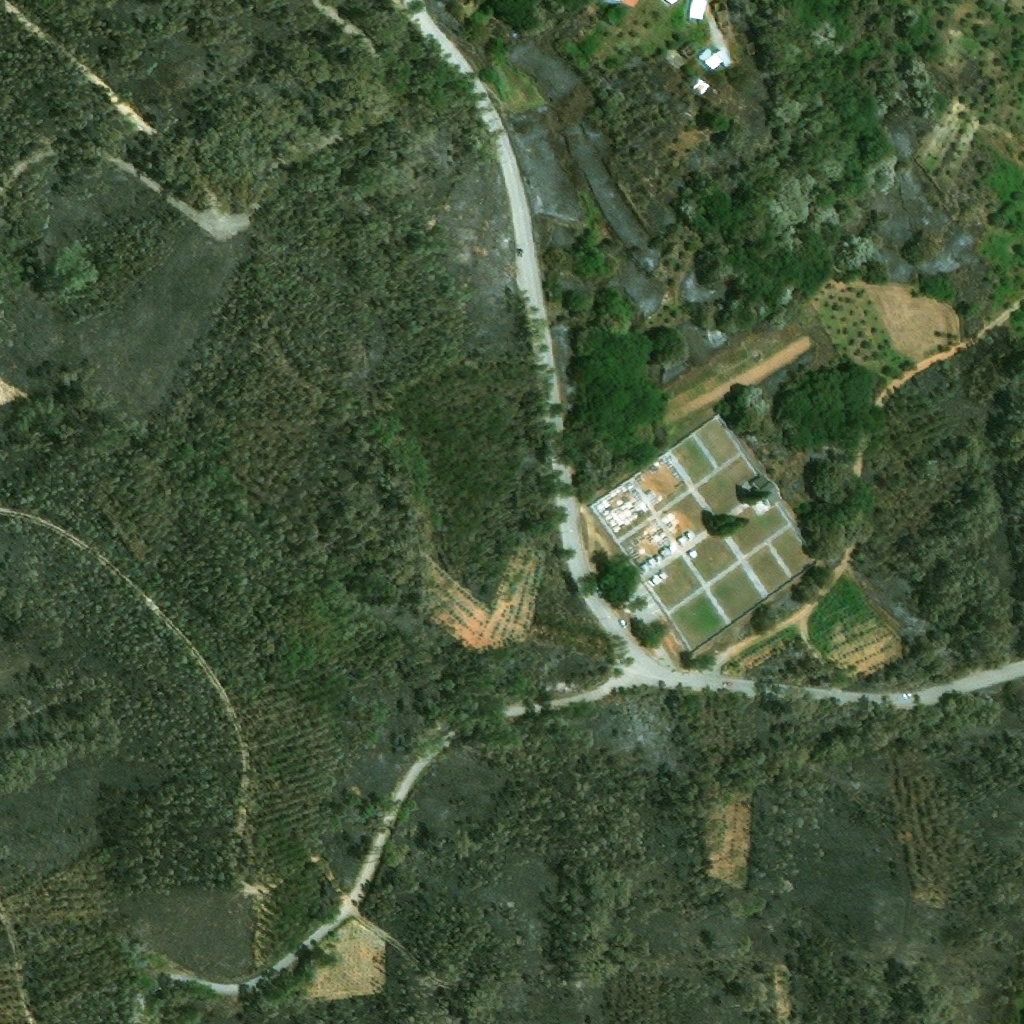0 no-damage: (749, 475, 780, 507), (699, 49, 731, 70), (711, 2, 729, 29)
1 minor-damage: (693, 78, 710, 95)
3 destroyed: (680, 45, 696, 58)
4 un-classified: (597, 0, 639, 7), (664, 0, 679, 5)
